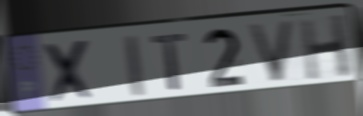2: (203, 26, 246, 90)
H: (297, 12, 355, 83)
I: (122, 32, 147, 99)
T: (150, 30, 190, 92)
V: (245, 19, 297, 85)
X: (42, 37, 98, 107)
